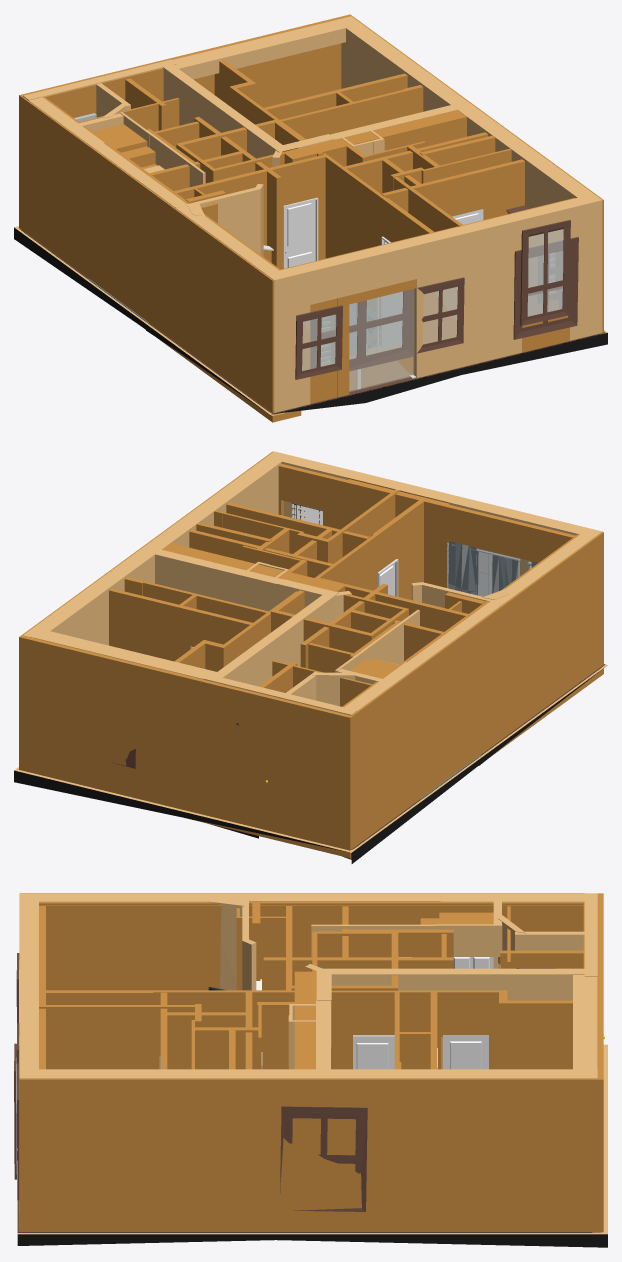
File: ajah_houses.glb
3 views of the same model, one above another, from view 1: azimuth 30°, elevation 25°; view 2: azimuth 150°, elevation 25°; view 3: azimuth 270°, elevation 25° (orthographic). The views are drawn at different scales.
Visible parts, largest first — view 1: C, B, A; view 2: C, A, B; view 3: C, A, B.
Part boxes in pixels (left/top/right/bottom): C: left=14, top=14, right=607, bottom=422; B: left=19, top=16, right=605, bottom=413; A: left=79, top=60, right=574, bottom=415; C: left=14, top=451, right=607, bottom=863; A: left=109, top=464, right=575, bottom=768; B: left=23, top=451, right=605, bottom=859; C: left=14, top=893, right=607, bottom=1247; A: left=39, top=905, right=583, bottom=1211; B: left=17, top=893, right=604, bottom=1245.
Size of the model in its own units: 7.95 by 3.27 by 10.52.
